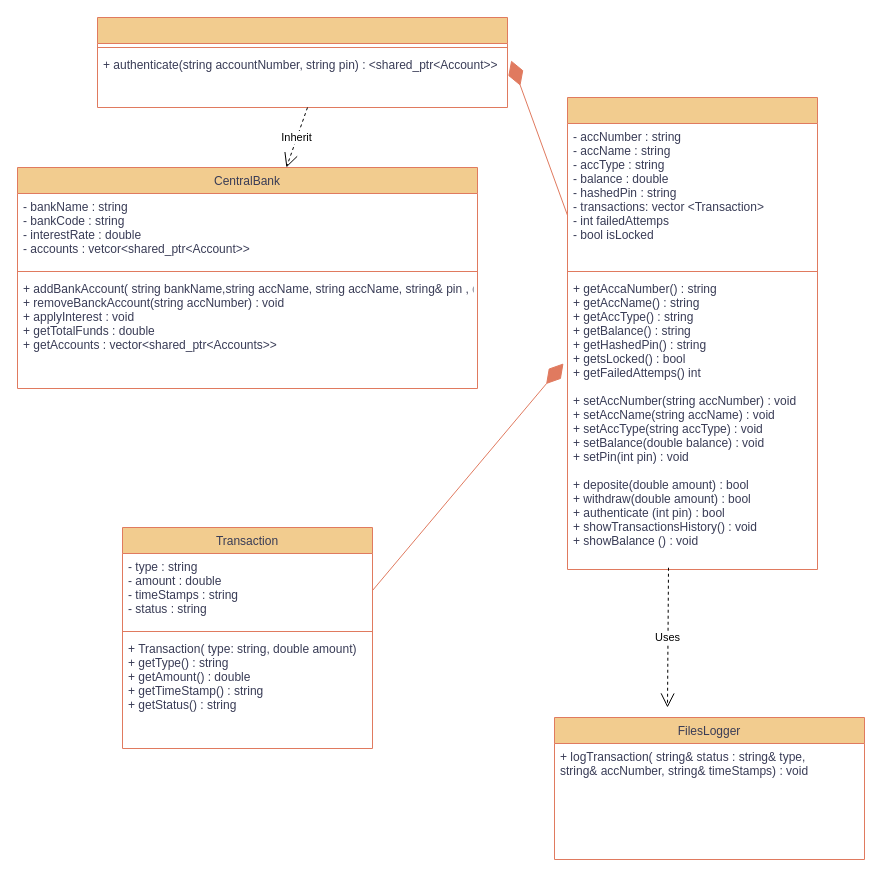
Some shapes in this 882 by 877 pixel diagram are drawn without their labels. Here are the shapes that lost their labels. From the top down, the box of each, then its label:
(96, 16, 508, 108): ATM
(566, 96, 818, 570): Account
